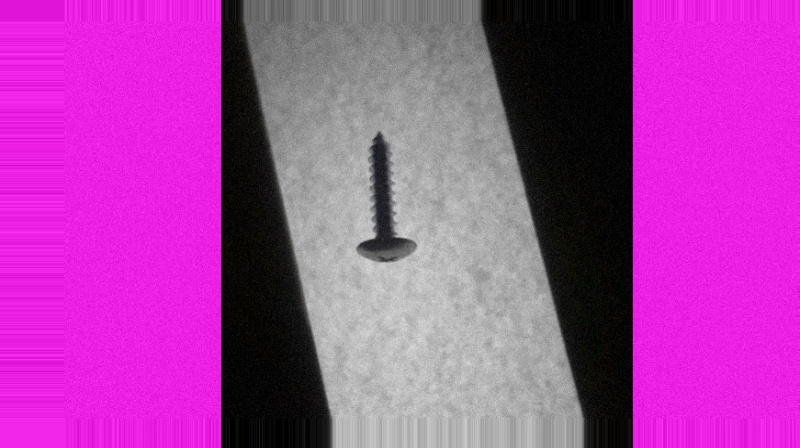S003: (352, 126, 418, 266)
